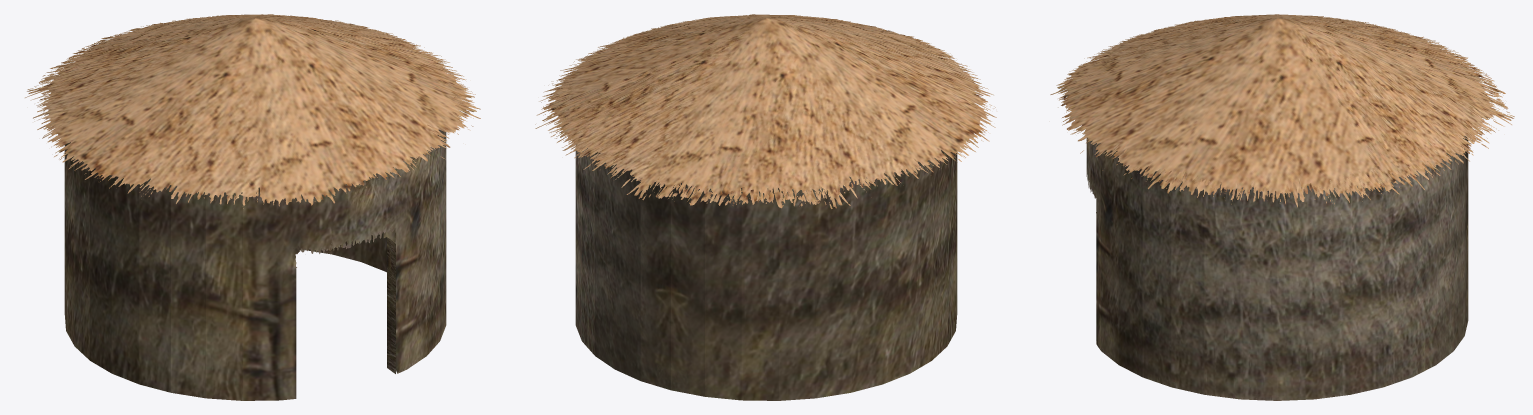
The model's file is Hut.fbx.
3 views of the same model, side by side, from view 1: azimuth 30°, elevation 25°; view 2: azimuth 150°, elevation 25°; view 3: azimuth 270°, elevation 25° (orthographic).
Parts seen in each view (by area): view 1: Hut; view 2: Hut; view 3: Hut.
Part boxes in pixels (bbox=[...]): Hut: bbox=[25, 14, 480, 400]; Hut: bbox=[535, 14, 996, 400]; Hut: bbox=[1050, 14, 1514, 400].
Size of the model in its own units: 1969 by 1358 by 1969.
